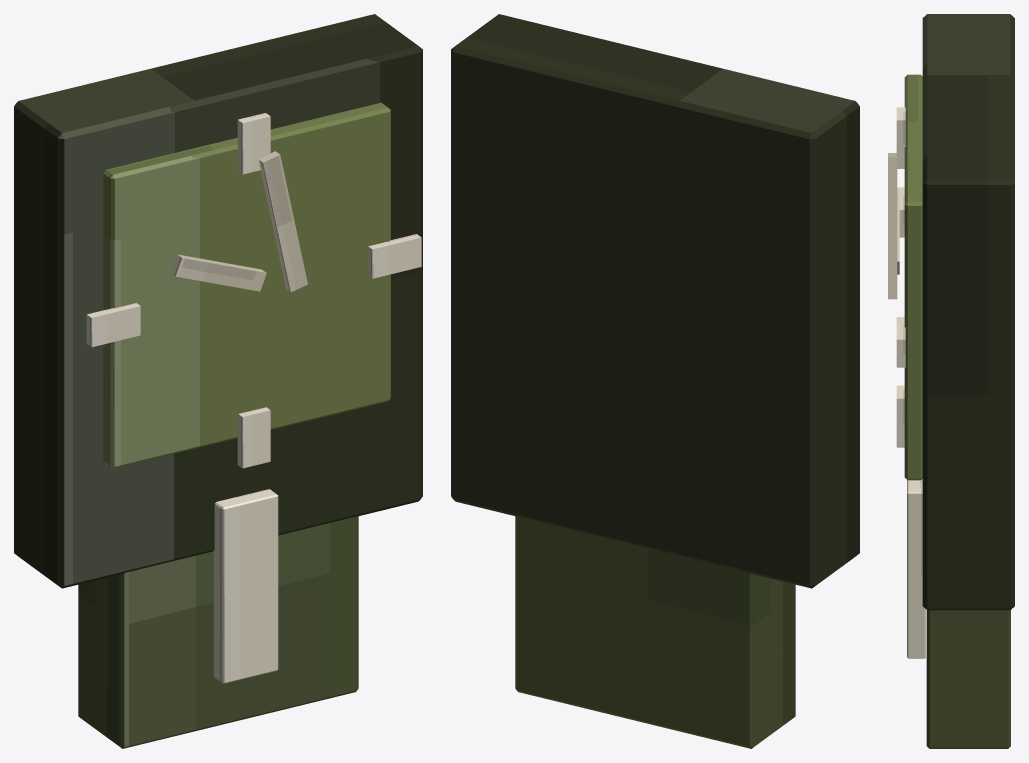
The model's file is bedroom_wall_clock_olive.glb.
The picture shows the model from 3 angles, left to right: view 1: azimuth 30°, elevation 25°; view 2: azimuth 150°, elevation 25°; view 3: azimuth 270°, elevation 25°; orthographic projection. The views are drawn at different scales.
Parts seen in each view (by area): view 1: ClockBack, ClockFace, ClockPendulumCase, ClockPendulum, ClockHandMinute, ClockHandHour, ClockMarker_-0.2_1.45, ClockMarker_0.0_1.25, ClockMarker_0.2_1.45, ClockMarker_0.0_1.65; view 2: ClockBack, ClockPendulumCase; view 3: ClockBack, ClockPendulumCase, ClockFace, ClockPendulum, ClockHandMinute, ClockMarker_0.0_1.65, ClockMarker_0.0_1.25, ClockMarker_0.2_1.45, ClockMarker_-0.2_1.45, ClockHandHour.
Boxes of the visible parts, x1=… form: ClockBack: x1=14, y1=14, x2=422, y2=588; ClockFace: x1=103, y1=102, x2=390, y2=468; ClockPendulumCase: x1=78, y1=516, x2=358, y2=748; ClockPendulum: x1=213, y1=489, x2=278, y2=683; ClockHandMinute: x1=258, y1=151, x2=307, y2=292; ClockHandHour: x1=171, y1=254, x2=266, y2=291; ClockMarker_-0.2_1.45: x1=86, y1=303, x2=140, y2=347; ClockMarker_0.0_1.25: x1=237, y1=407, x2=270, y2=468; ClockMarker_0.2_1.45: x1=368, y1=234, x2=421, y2=278; ClockMarker_0.0_1.65: x1=237, y1=113, x2=270, y2=174; ClockBack: x1=451, y1=14, x2=859, y2=588; ClockPendulumCase: x1=515, y1=516, x2=795, y2=748; ClockBack: x1=922, y1=14, x2=1014, y2=610; ClockPendulumCase: x1=926, y1=610, x2=1010, y2=748; ClockFace: x1=904, y1=74, x2=922, y2=480; ClockPendulum: x1=907, y1=479, x2=925, y2=658; ClockHandMinute: x1=888, y1=153, x2=897, y2=299; ClockMarker_0.0_1.65: x1=896, y1=107, x2=905, y2=168; ClockMarker_0.0_1.25: x1=896, y1=385, x2=904, y2=447; ClockMarker_0.2_1.45: x1=896, y1=317, x2=905, y2=367; ClockMarker_-0.2_1.45: x1=897, y1=187, x2=904, y2=237; ClockHandHour: x1=897, y1=188, x2=899, y2=274.
Size of the model in its own units: 0.52 by 0.86 by 0.165.
1 material, 1 textured.
